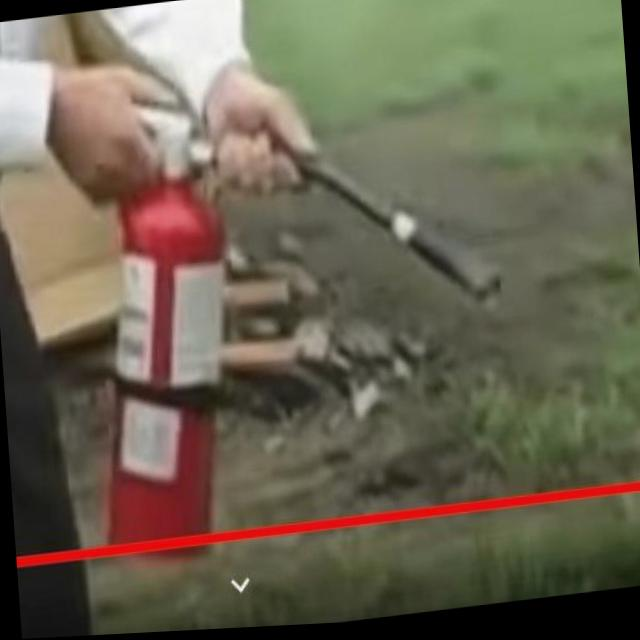FireExtinguisher: (58, 25, 524, 577)
